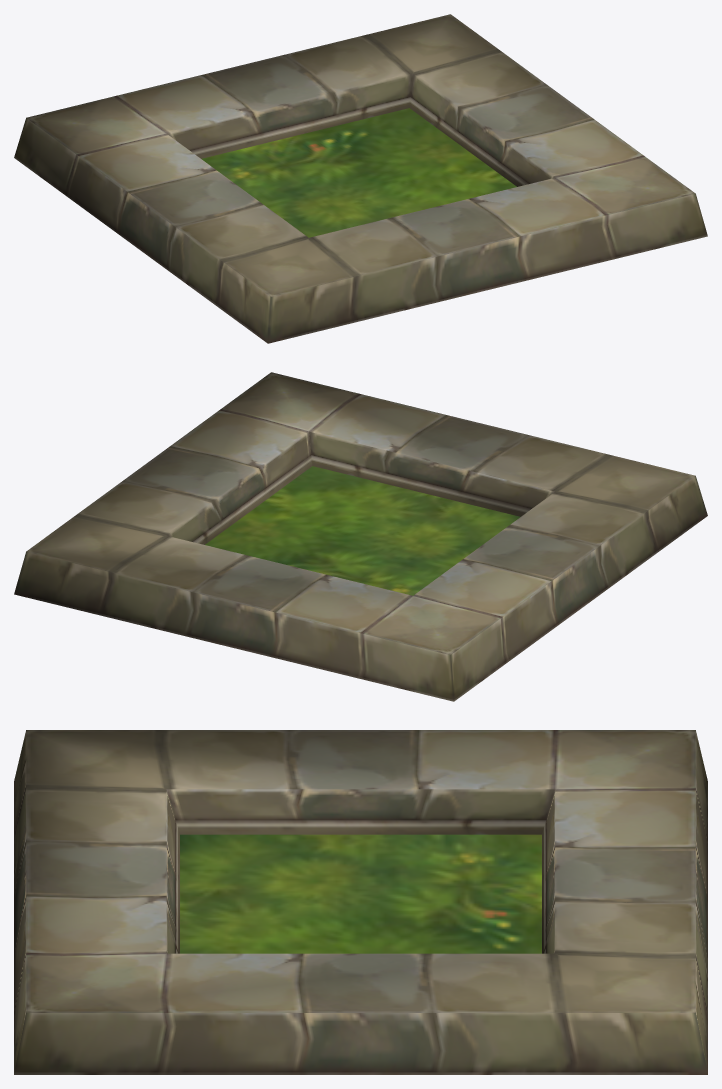
The model's file is DN_mcdibiaozj05.FBX.
The picture shows the model from 3 angles, top to bottom: view 1: azimuth 30°, elevation 25°; view 2: azimuth 150°, elevation 25°; view 3: azimuth 270°, elevation 25°; orthographic projection. The views are drawn at different scales.
Parts seen in each view (by area): view 1: DN_mcdibiaozj05; view 2: DN_mcdibiaozj05; view 3: DN_mcdibiaozj05.
Part boxes in pixels (x1,y1,x2,y2): DN_mcdibiaozj05: [14, 14, 707, 343]; DN_mcdibiaozj05: [14, 372, 707, 701]; DN_mcdibiaozj05: [14, 730, 707, 1074].
Size of the model in its own units: 320 by 28.8 by 320.
